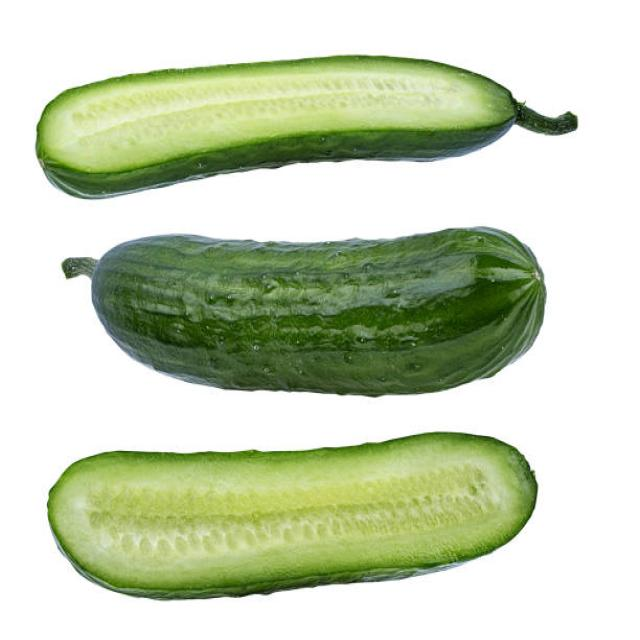cucumber: (47, 429, 538, 599), (91, 225, 546, 397), (36, 53, 518, 199)
